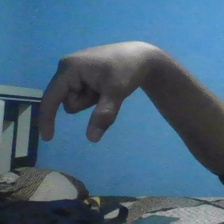Q: (33, 36, 162, 144)
